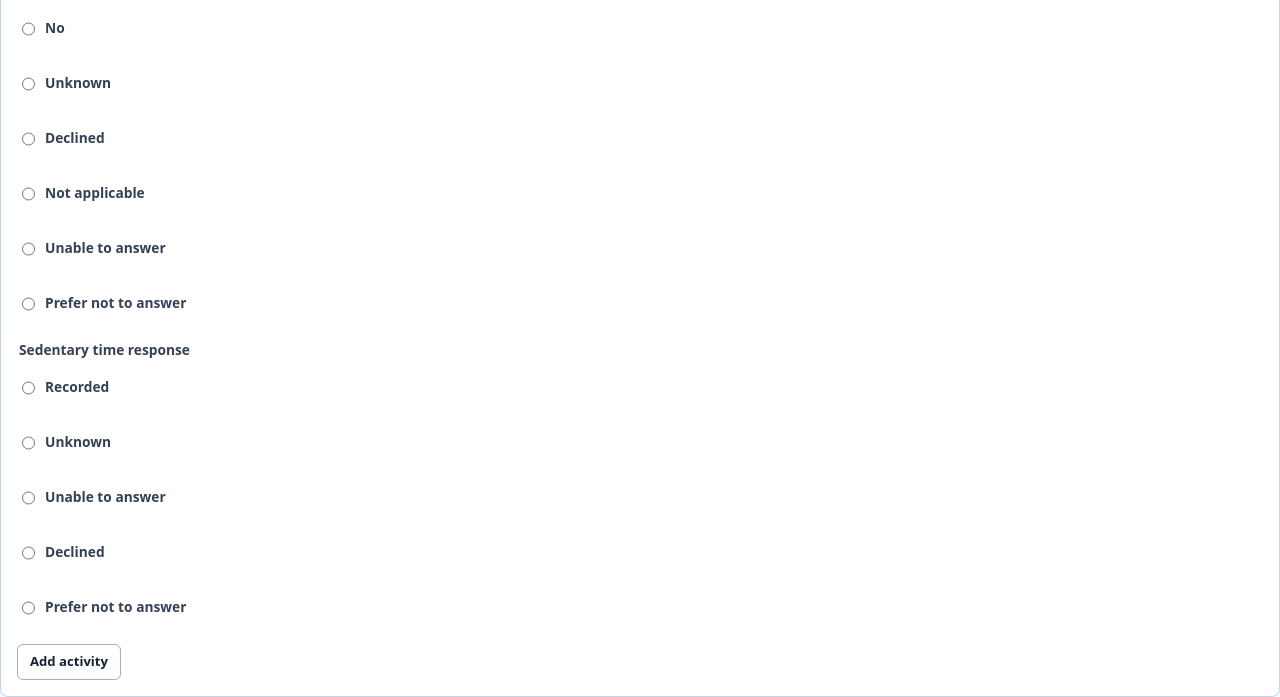
Test: Lifestyle activity card interactions › focuses the new Physical Activity domain after Add activity
(page scrolled)
Step 1. Click the button "Add activity" → (69, 662), box [17, 644, 121, 680]
(page scrolled)
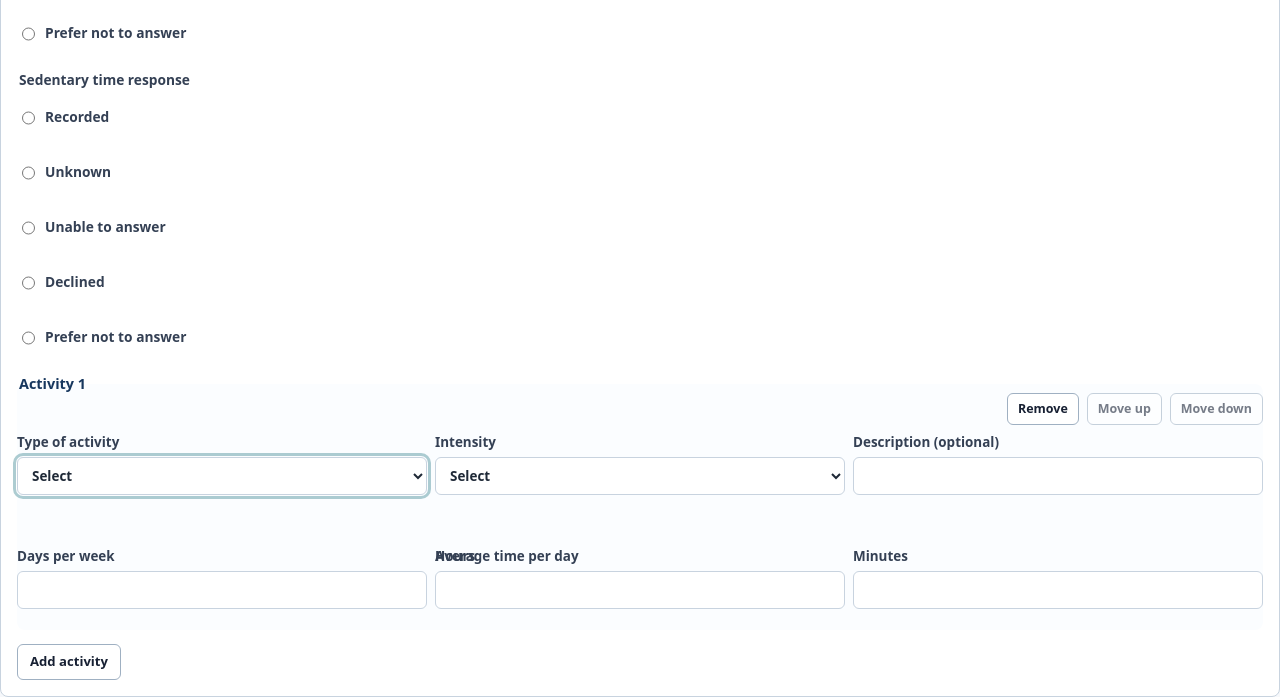
Expected: the dropdown labelled "Type of activity" is shown, [17, 457, 427, 495]
